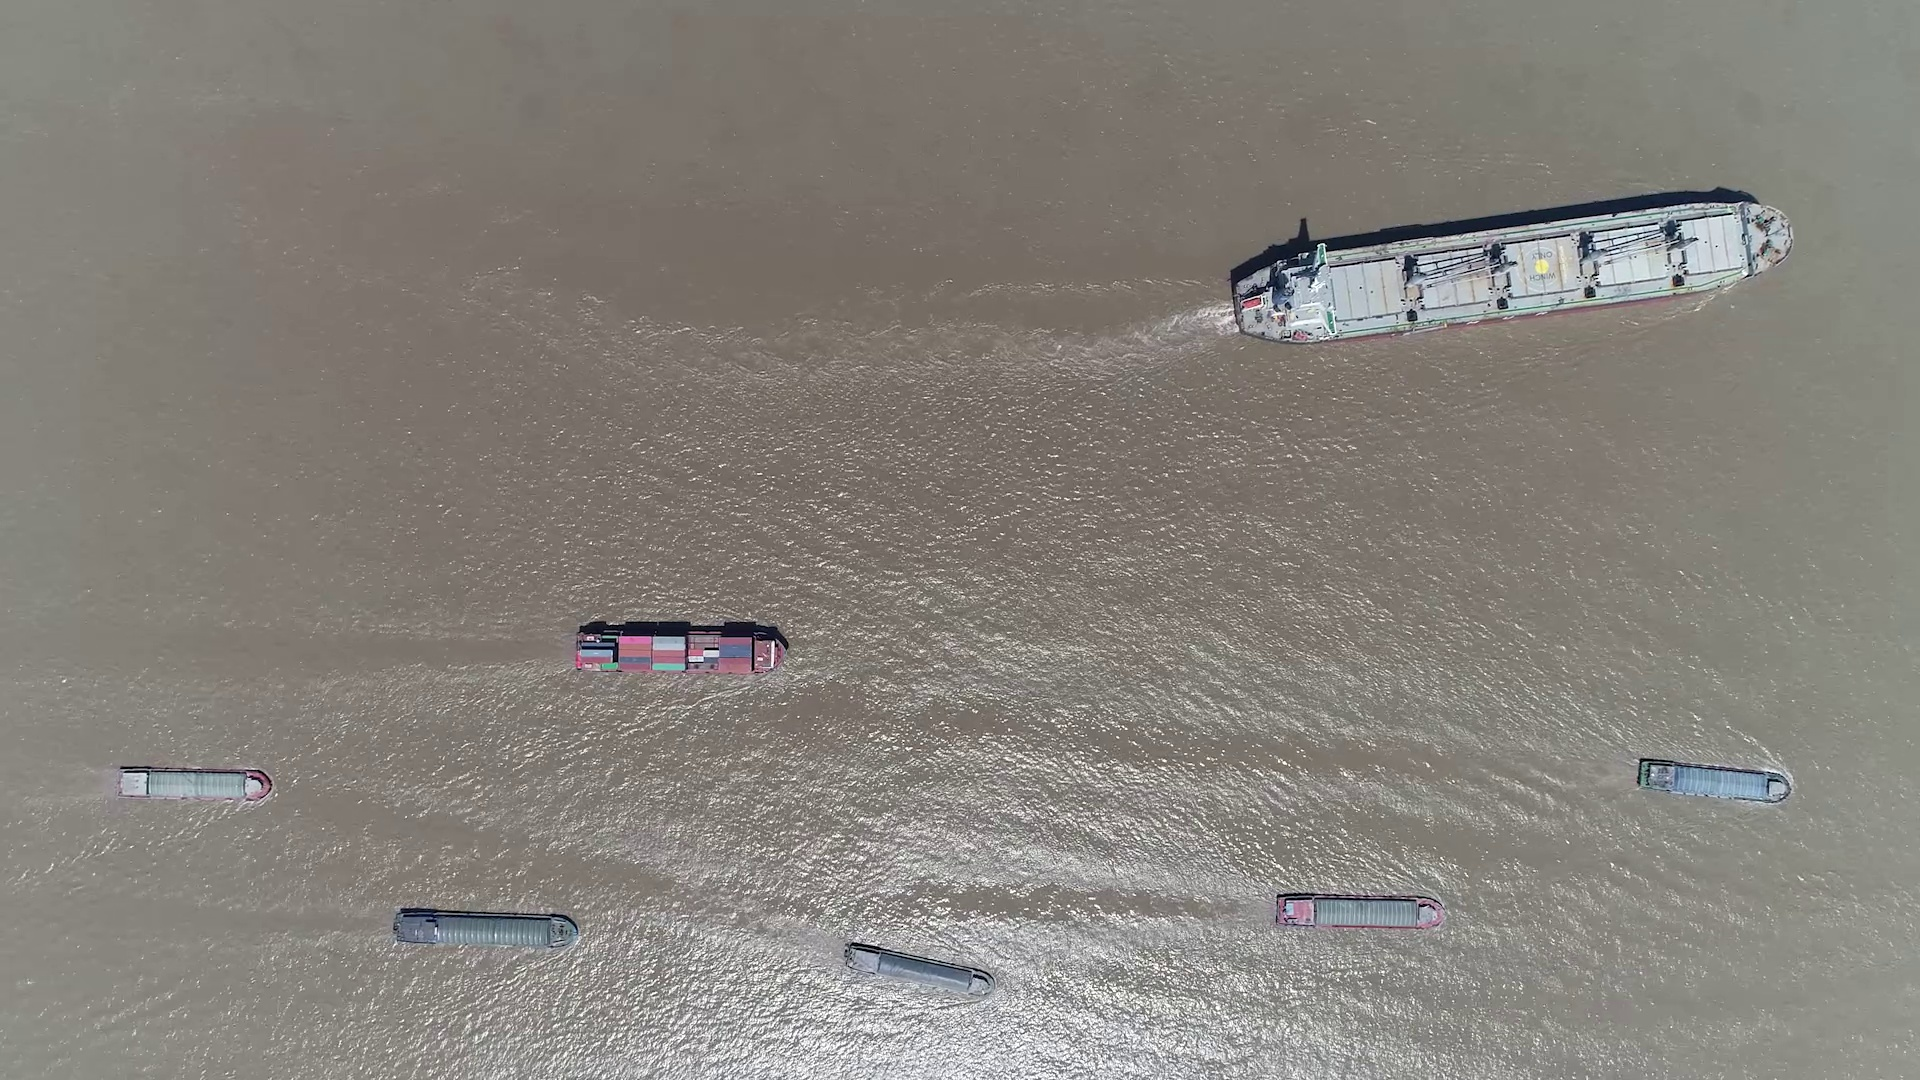ship: (1226, 200, 1792, 343), (574, 626, 786, 675), (844, 943, 993, 996), (392, 909, 576, 948), (1636, 758, 1792, 803), (1274, 891, 1445, 930), (116, 766, 272, 803)
